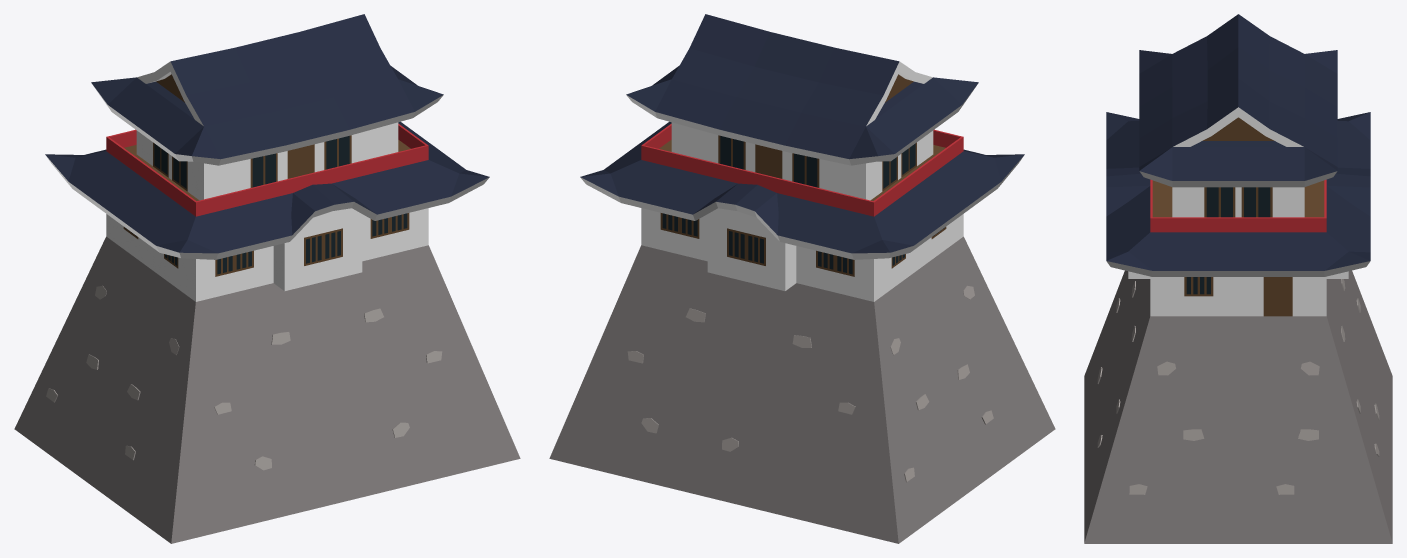
The model's file is tower-japan-small.glb.
The picture shows the model from 3 angles, left to right: view 1: azimuth 30°, elevation 25°; view 2: azimuth 150°, elevation 25°; view 3: azimuth 270°, elevation 25°; orthographic projection.
Visible parts, largest first — view 1: tower-japan_small; view 2: tower-japan_small; view 3: tower-japan_small.
Boxes of the visible parts, box(x1,y1,x2,y2) form: tower-japan_small: box(14, 14, 520, 543); tower-japan_small: box(549, 14, 1055, 543); tower-japan_small: box(1084, 14, 1392, 543).
Size of the model in its own units: 18 by 20 by 14.
1 material, 1 textured.
